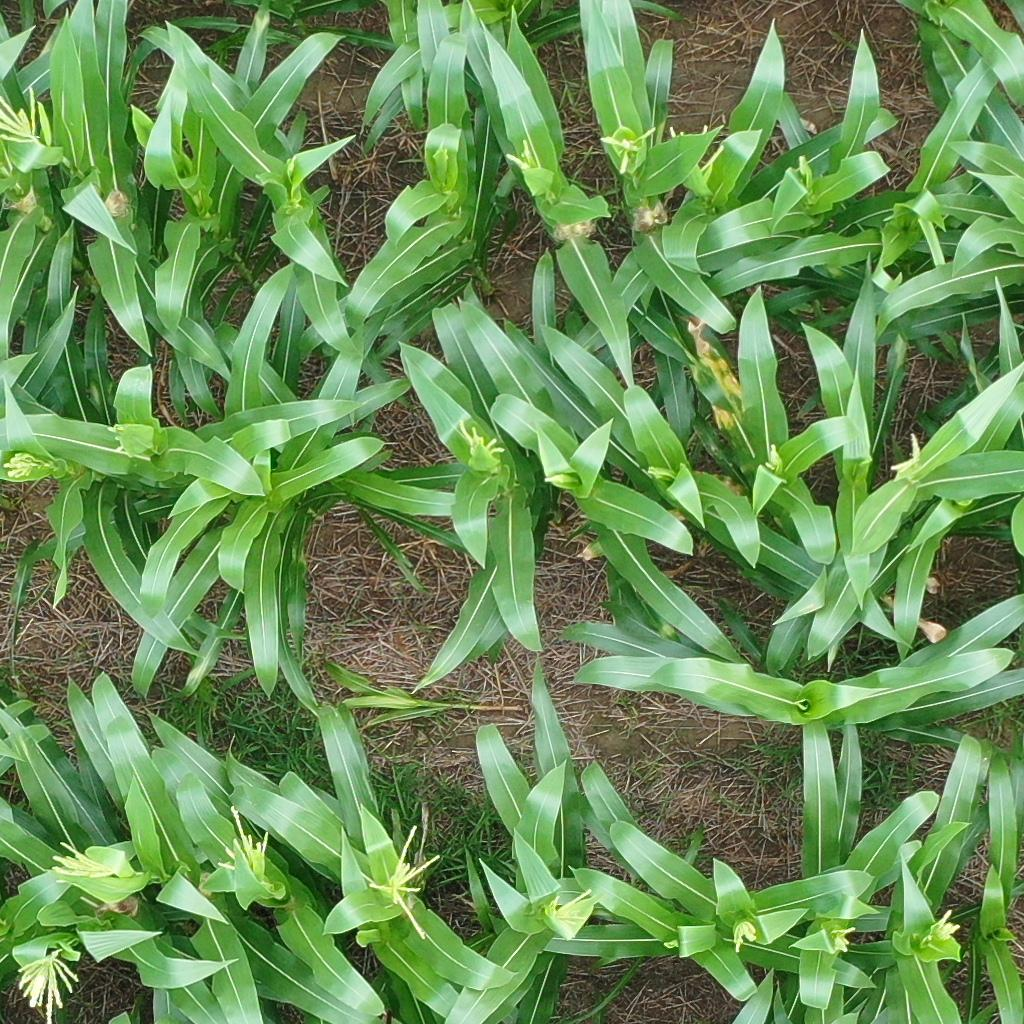Tassel: (361, 820, 440, 942), (15, 951, 80, 1023), (213, 801, 269, 882), (669, 118, 723, 179), (539, 884, 597, 940), (43, 837, 117, 879), (600, 121, 652, 172), (1, 86, 43, 149), (456, 417, 503, 464), (886, 433, 925, 479), (2, 449, 44, 484), (924, 905, 956, 945), (728, 916, 757, 954), (499, 139, 531, 172), (825, 925, 856, 953)
